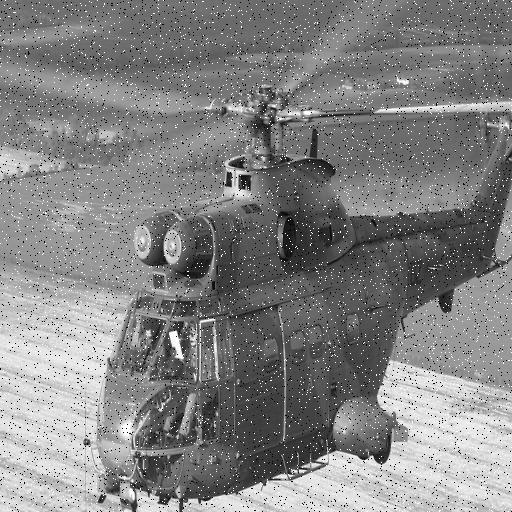helicopter: (100, 82, 512, 495)
